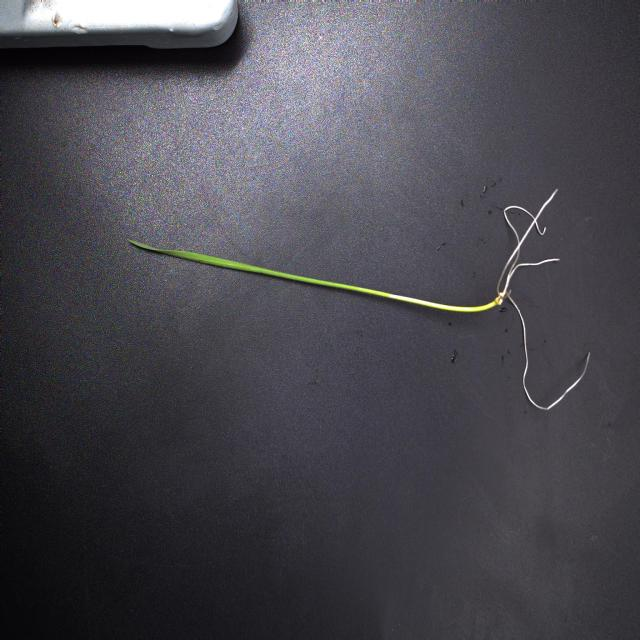leaf: (127, 237, 379, 299)
root: (497, 185, 592, 413)
stem: (379, 291, 500, 315)
